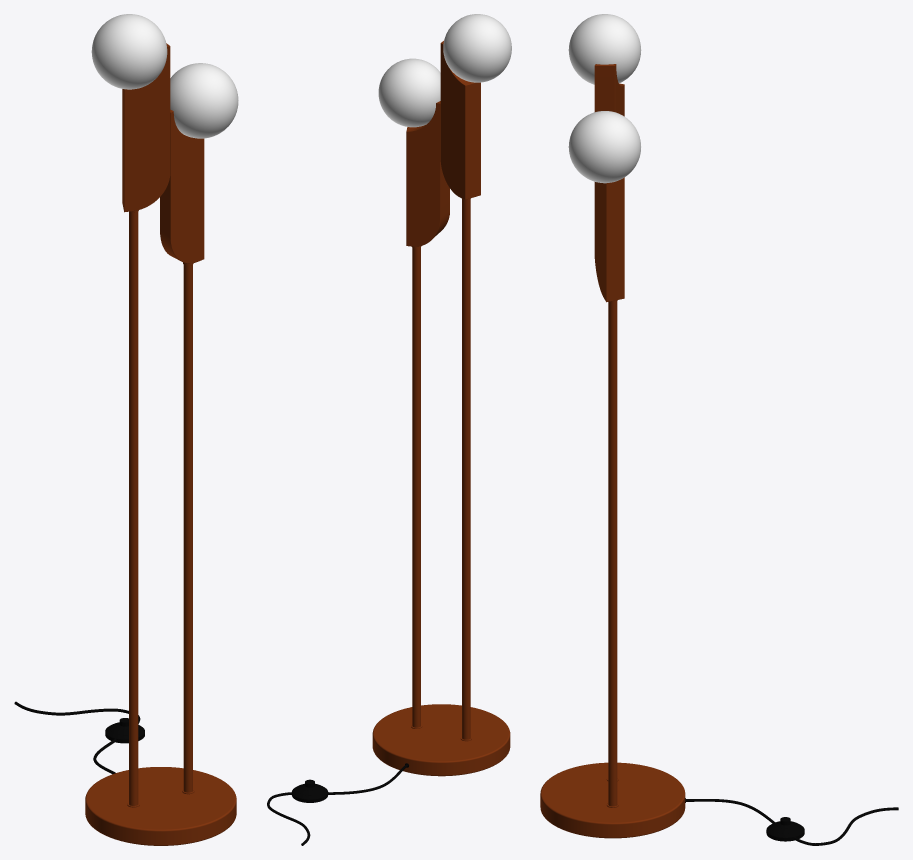
Rendered from West_Elm_Bower_Floor_mat(2).fbx.
The picture shows the model from 3 angles, left to right: view 1: azimuth 30°, elevation 25°; view 2: azimuth 150°, elevation 25°; view 3: azimuth 270°, elevation 25°; orthographic projection. The views are drawn at different scales.
Parts seen in each view (by area): view 1: West_Elm_Bower_Floor_mat2; view 2: West_Elm_Bower_Floor_mat2; view 3: West_Elm_Bower_Floor_mat2.
Boxes of the visible parts, x1,y1,x2,y2 form: West_Elm_Bower_Floor_mat2: [14, 14, 238, 845]; West_Elm_Bower_Floor_mat2: [267, 14, 511, 845]; West_Elm_Bower_Floor_mat2: [540, 14, 898, 845].
Bounding box in the file's own units: 29.26 × 62.78 × 150.
